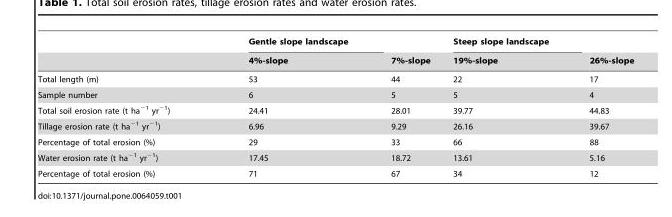table: (37, 36, 633, 177)
table column: (37, 36, 208, 177), (208, 36, 368, 177), (441, 36, 568, 177), (368, 36, 441, 177), (568, 36, 633, 177)
table column header: (37, 36, 633, 69)
table row: (37, 50, 633, 69), (37, 69, 633, 86), (37, 117, 633, 134), (37, 148, 633, 165), (37, 101, 633, 117), (37, 86, 633, 101), (37, 36, 633, 50), (37, 134, 633, 148), (37, 165, 633, 177)
table spanning cell: (208, 36, 368, 69), (441, 36, 568, 69), (368, 36, 441, 69), (568, 36, 633, 69)
